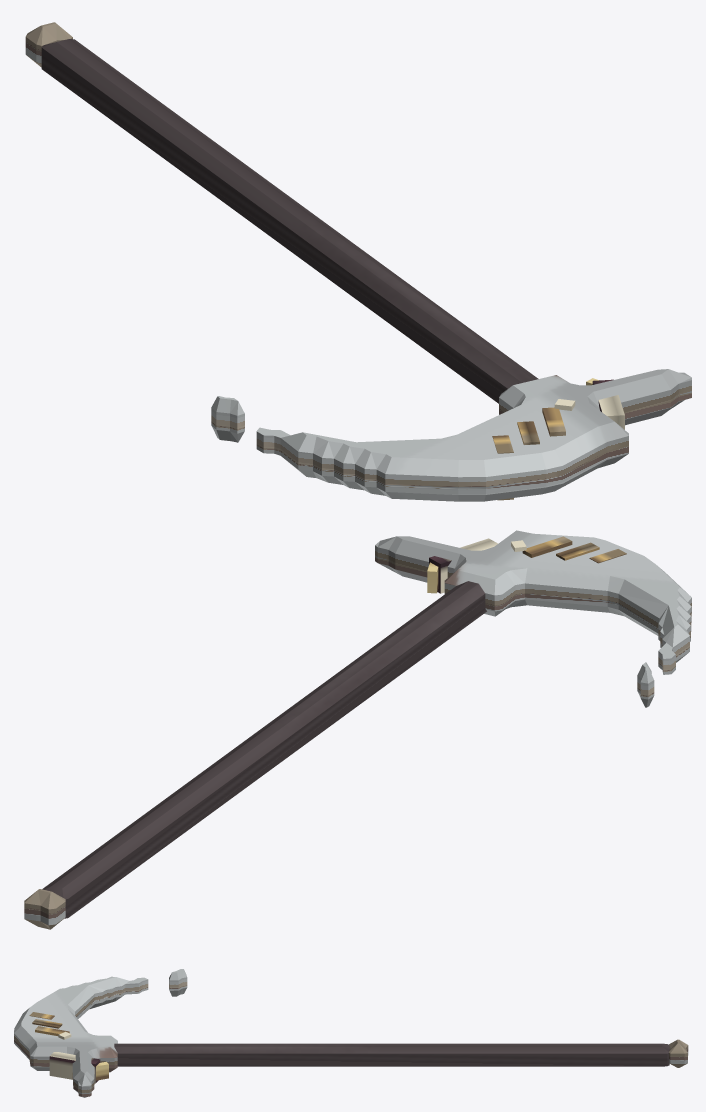
File: white_bone_scythe.obj
3 renders of one model, top to bottom at view 1: azimuth 30°, elevation 25°; view 2: azimuth 150°, elevation 25°; view 3: azimuth 270°, elevation 25°, orthographic. The views are drawn at different scales.
Visible parts, largest first — view 1: white_bone_scythe; view 2: white_bone_scythe; view 3: white_bone_scythe.
Part boxes in pixels (x1,y1,x2,y2): white_bone_scythe: (25, 22, 691, 501); white_bone_scythe: (24, 530, 691, 929); white_bone_scythe: (14, 969, 688, 1097).
Size of the model in its own units: 0.5906 by 0.0897 by 1.51.
